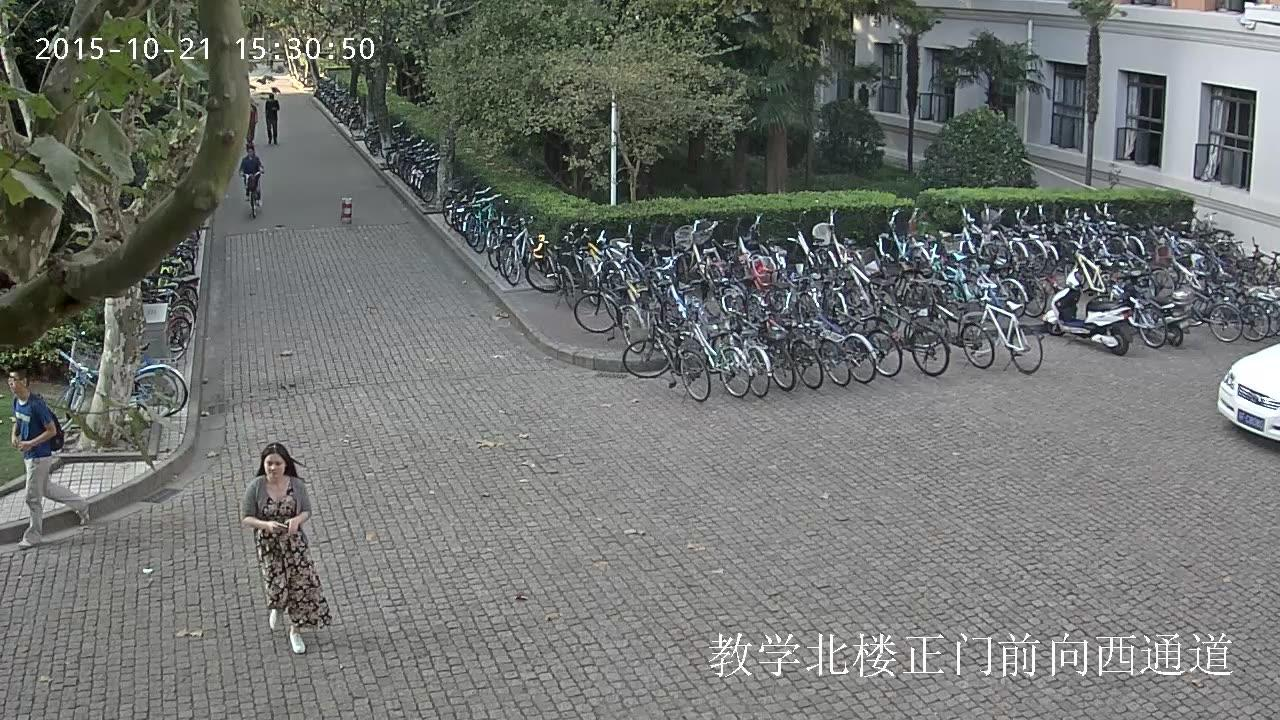person: (240, 441, 332, 654), (7, 364, 90, 551), (237, 143, 265, 218), (237, 144, 265, 207), (264, 92, 280, 145), (243, 98, 259, 142)
